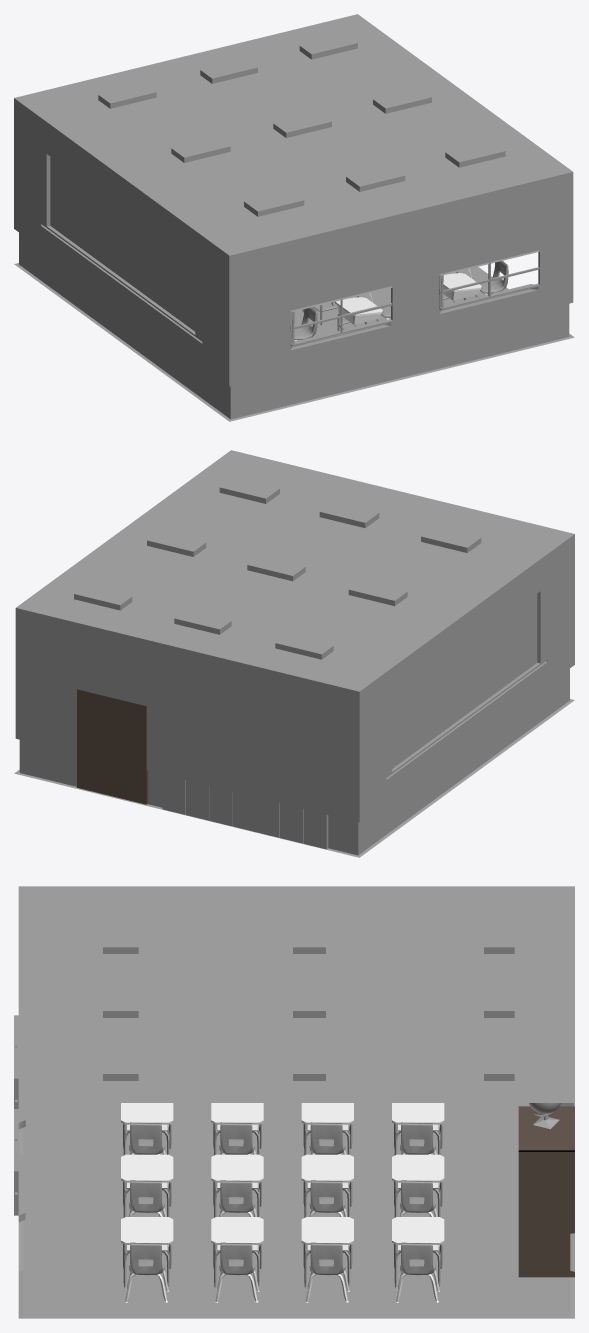
File: classroom.fbx
3 renders of one model, top to bottom at view 1: azimuth 30°, elevation 25°; view 2: azimuth 150°, elevation 25°; view 3: azimuth 270°, elevation 25°, orthographic. The views are drawn at different scales.
Parts seen in each view (by area): view 1: ClassRoom, desk1, desk:desk; view 2: ClassRoom, Bookshelf:Bookshelf, Locker4, Locker7, Locker1, Locker2, Locker6, Locker8, Locker3; view 3: ClassRoom, desk1 (×8), Bookshelf:Bookshelf, chair (×8), desk:desk (×4), deskChair:unsmoothedChair:chair (×4).
Part boxes in pixels (x1,y1,x2,y2): ClassRoom: [14, 14, 574, 421]; desk1: [334, 297, 382, 324]; desk:desk: [443, 273, 481, 300]; ClassRoom: [14, 450, 574, 857]; Bookshelf:Bookshelf: [77, 689, 148, 804]; Locker4: [303, 809, 328, 849]; Locker7: [186, 780, 209, 820]; Locker1: [256, 797, 279, 837]; Locker2: [280, 803, 303, 843]; Locker6: [209, 786, 232, 826]; Locker8: [162, 774, 185, 814]; Locker3: [235, 792, 256, 831]; ClassRoom: [14, 886, 574, 1318]; desk1 (×8): [121, 1103, 444, 1188]; Bookshelf:Bookshelf: [518, 1106, 574, 1277]; chair (×8): [129, 1122, 435, 1212]; desk:desk (×4): [121, 1217, 444, 1251]; deskChair:unsmoothedChair:chair (×4): [129, 1242, 435, 1275].
Size of the model in its own units: 8.43 by 4.01 by 9.18.
